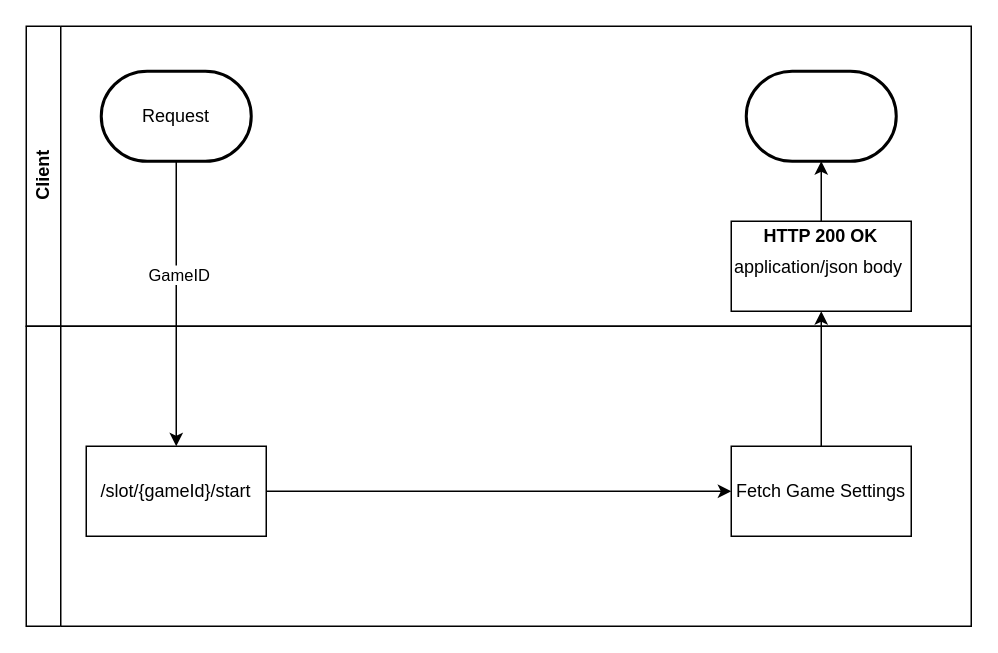
This 998x653 diagram has some shape labels left out. Each missing label, with the box of its shape:
Game Settings Data: (744, 69, 897, 162)
Slot-Engine API: (25, 325, 971, 626)
